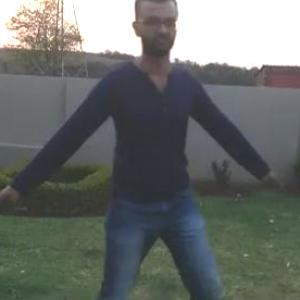land: (99, 52, 219, 229)
